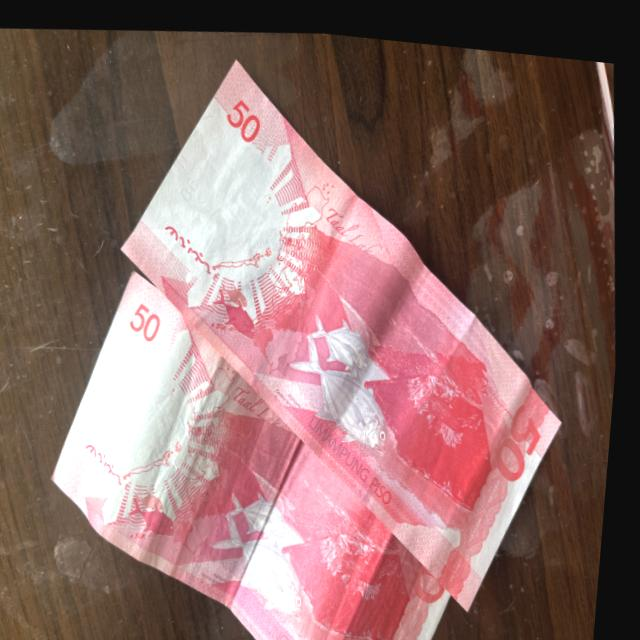50_maliputo: (283, 298, 419, 469), (207, 474, 329, 625)
50_maliputo_watermark: (203, 271, 276, 344), (128, 479, 192, 554)
value_watermark: (170, 162, 206, 215), (95, 367, 129, 422)
watermark: (151, 102, 294, 296), (84, 319, 203, 494)
